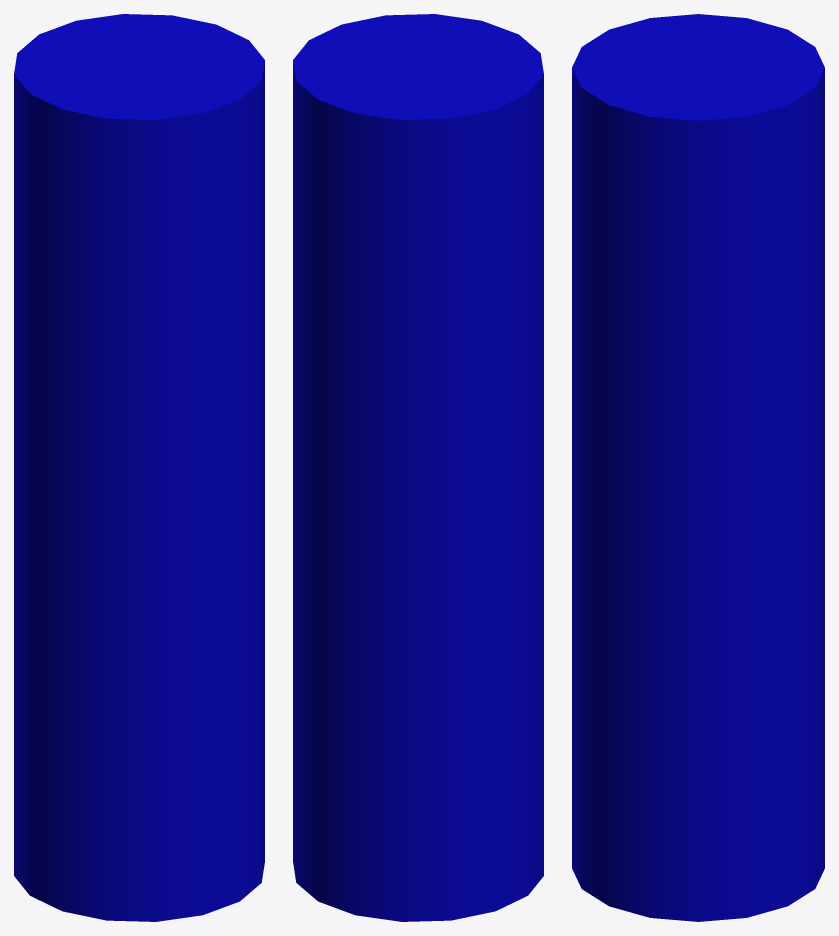
Rendered from plot.obj.
3 views of the same model, side by side, from view 1: azimuth 30°, elevation 25°; view 2: azimuth 150°, elevation 25°; view 3: azimuth 270°, elevation 25° (orthographic).
Parts seen in each view (by area): view 1: Cylinder; view 2: Cylinder; view 3: Cylinder.
Part boxes in pixels (x1,y1,x2,y2): Cylinder: (14, 14, 264, 921); Cylinder: (293, 14, 543, 921); Cylinder: (572, 14, 824, 921).
Size of the model in its own units: 0.36 by 1.26 by 0.36.
